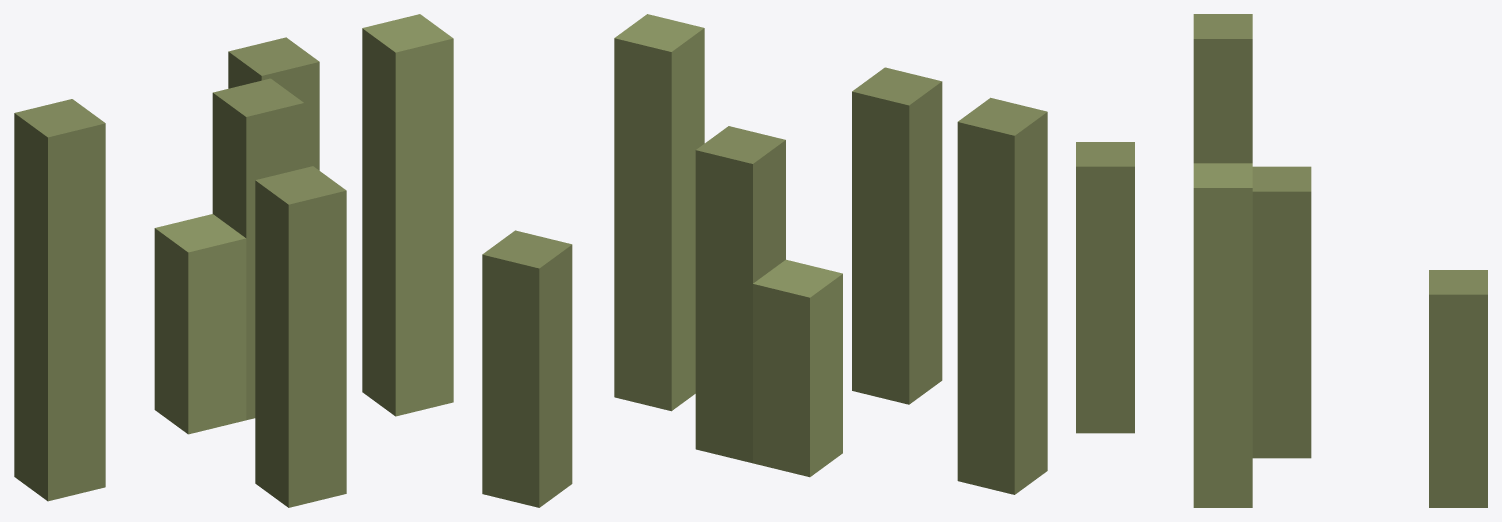
The model's file is musgo_de_turbera_01.glb.
3 views of the same model, side by side, from view 1: azimuth 30°, elevation 25°; view 2: azimuth 150°, elevation 25°; view 3: azimuth 270°, elevation 25° (orthographic). The views are drawn at different scales.
Parts seen in each view (by area): view 1: musgo_de_turbera_01; view 2: musgo_de_turbera_01; view 3: musgo_de_turbera_01.
Part boxes in pixels (x1,y1,x2,y2): musgo_de_turbera_01: (14, 14, 453, 507); musgo_de_turbera_01: (482, 14, 1047, 507); musgo_de_turbera_01: (1076, 14, 1487, 507).
Bounding box in the file's own units: 0.7 × 0.6 × 0.7.
